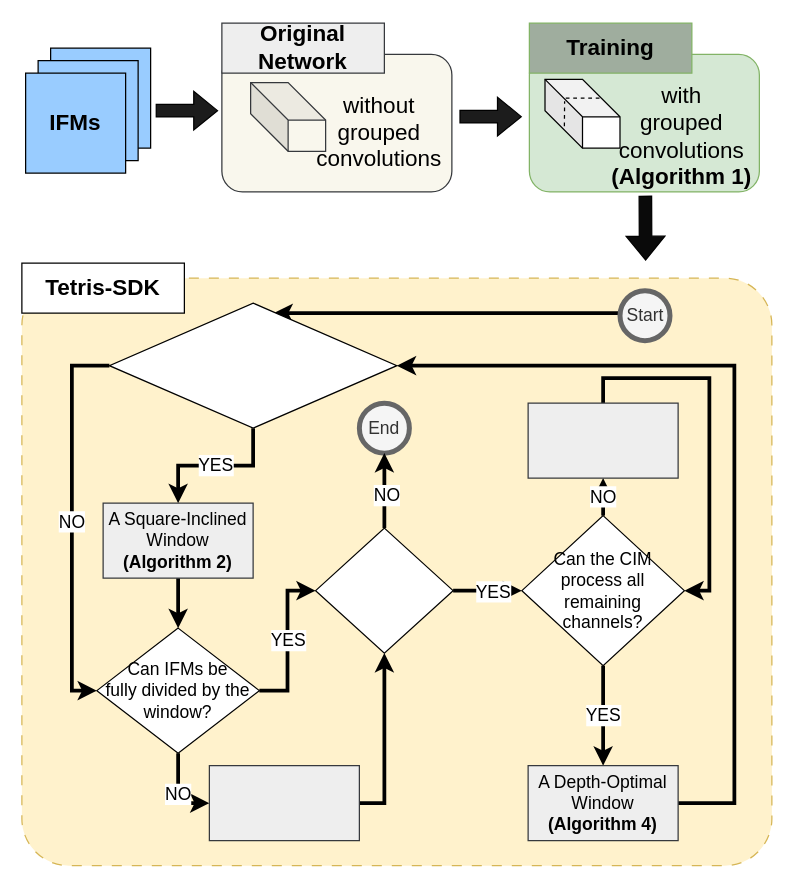
The diagram is 794 pixels wide and 888 high, and some of its shapes have lost their labels. Each missing label, with the box of its shape:
A Marginal Window (Algorithm 3): (208, 764, 359, 841)
Can AR be reduced for same number of convolutions in a window?: (108, 302, 397, 428)
Channel Pruning (Algorithm 4): (527, 402, 678, 478)
flowchart_new: (528, 53, 759, 192)
Has Remaining Channel?: (314, 527, 453, 653)
